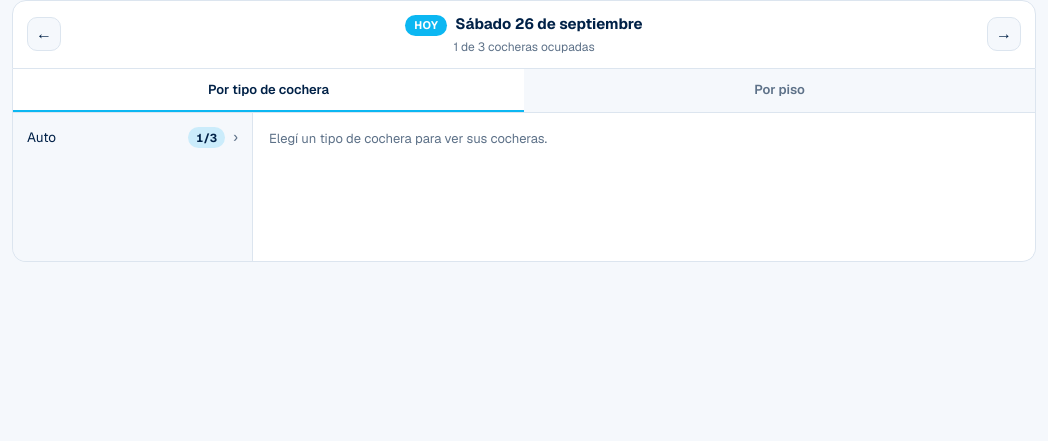
Test: OcupacionCocheras: el detalle › las cocheras libres también figuran
The width and height of the screenshot is (1048, 441).
What coordinates should you click on to do the following:
click the button "Auto 1/3 ›"
I would click on:
 (132, 137)
Its box is x1=13 y1=113 x2=252 y2=162.
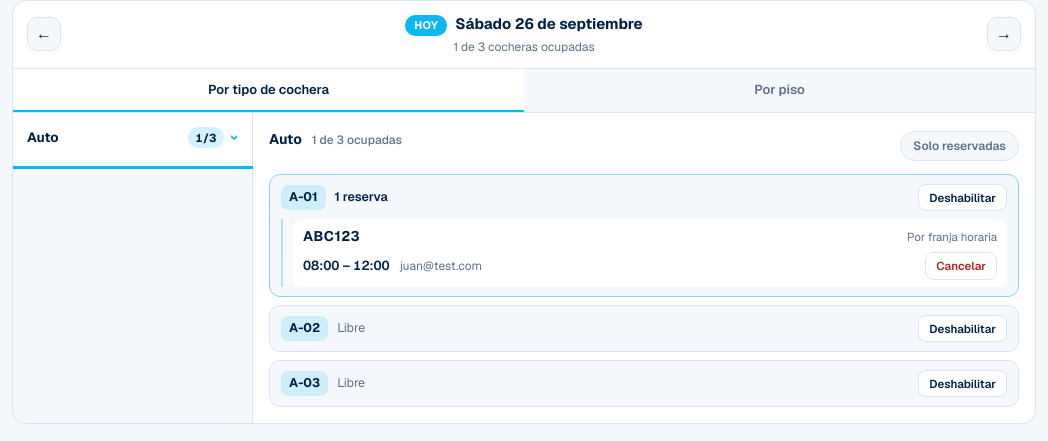
Expected: the text "A-02" is shown, x1=281 y1=316 x2=328 y2=341
Expected: the text "A-03" is shown, x1=281 y1=371 x2=328 y2=396
Expected: the text "Libre" is shown 2 times, x1=337 y1=319 x2=365 y2=336; x1=337 y1=374 x2=365 y2=391
